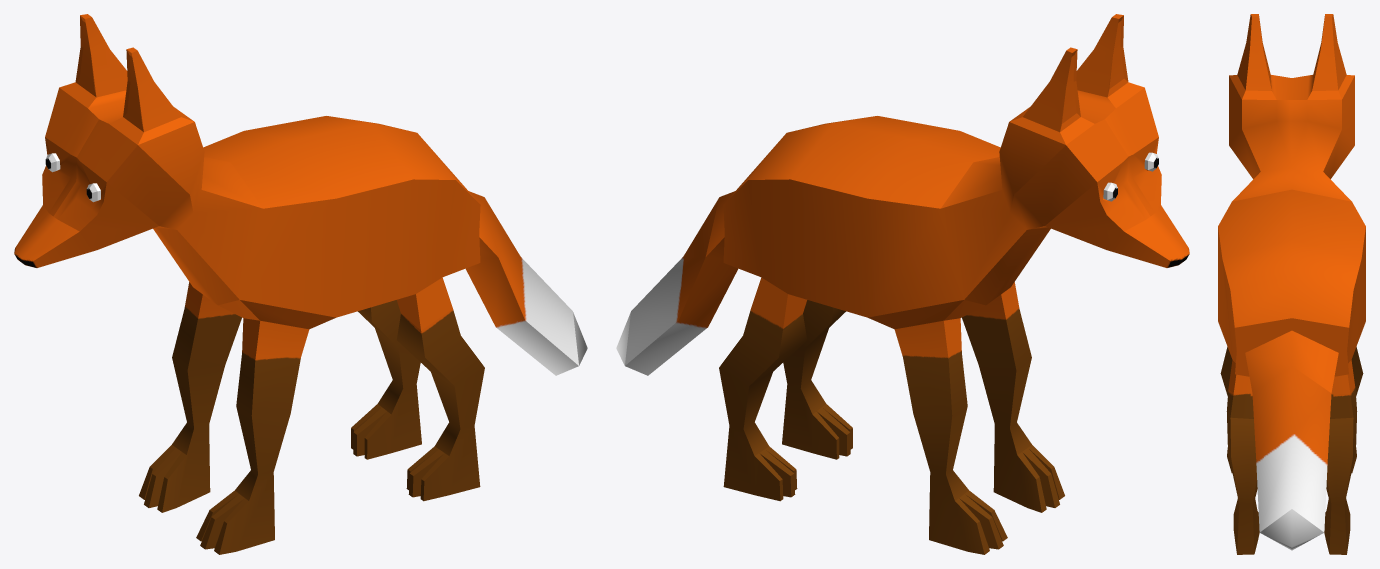
Rendered from Fox.fbx.
The picture shows the model from 3 angles, left to right: view 1: azimuth 30°, elevation 25°; view 2: azimuth 150°, elevation 25°; view 3: azimuth 270°, elevation 25°; orthographic projection. The views are drawn at different scales.
Visible parts, largest first — view 1: fox:pSphere7; view 2: fox:pSphere7; view 3: fox:pSphere7.
Part boxes in pixels (x1,y1,x2,y2): fox:pSphere7: (14,14,587,554); fox:pSphere7: (616,14,1189,554); fox:pSphere7: (1218,14,1365,554).
Size of the model in its own units: 4.09 by 3.51 by 1.15.
